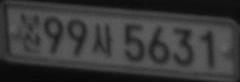1: (197, 29, 219, 68)
3: (170, 27, 195, 66)
5: (123, 22, 146, 62)
6: (146, 24, 170, 65)
9: (66, 17, 88, 56), (43, 15, 64, 53)
부산_V: (18, 12, 43, 54)
사: (92, 21, 114, 56)
